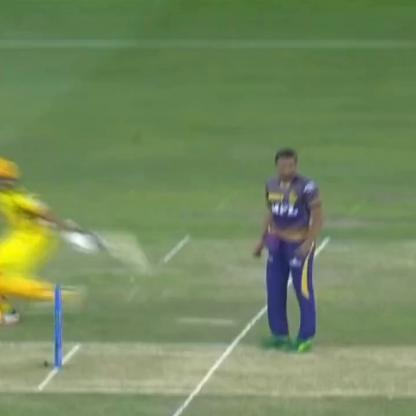bat: (66, 220, 162, 271)
pitch: (4, 336, 416, 416)
